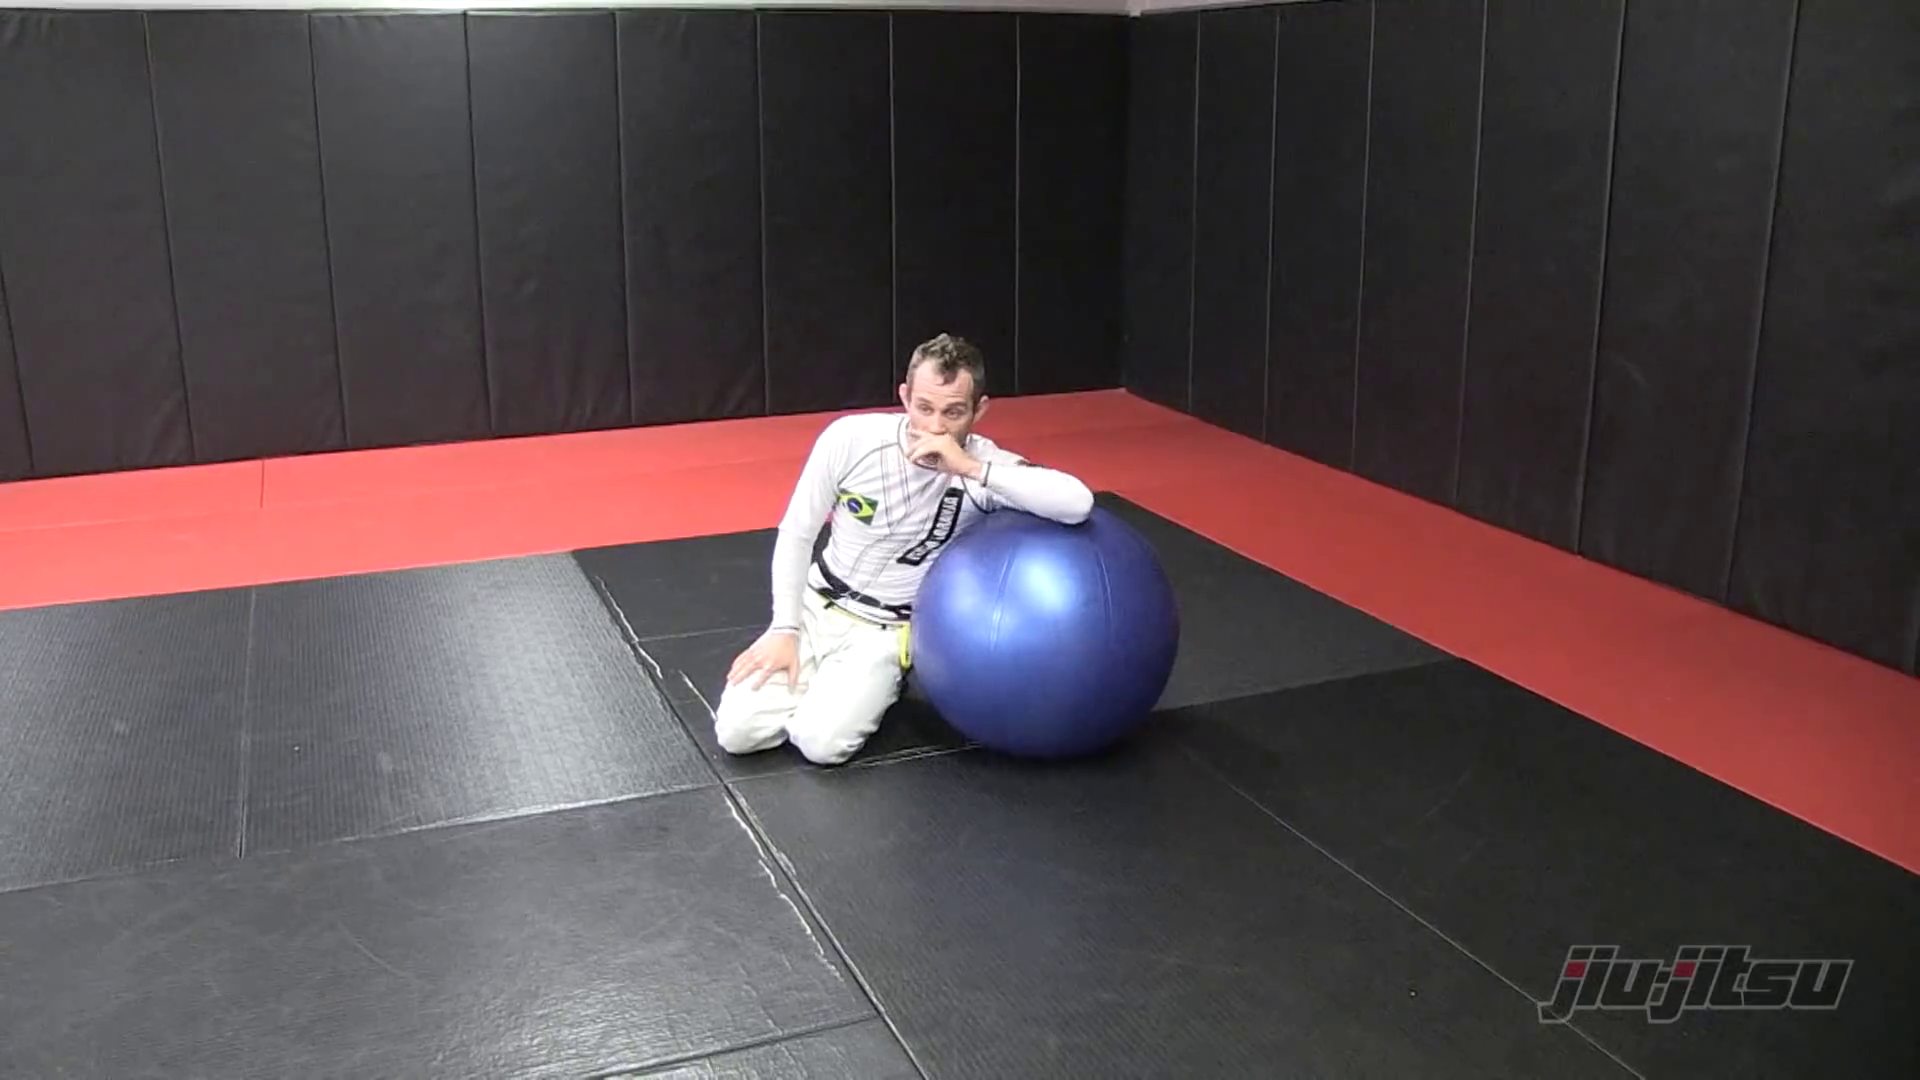yogaball: (903, 492, 1192, 785)
